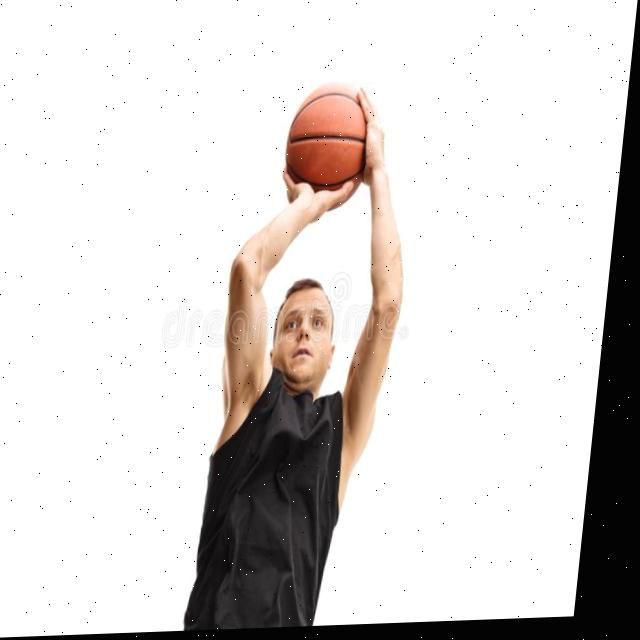basketball: (280, 82, 374, 213)
